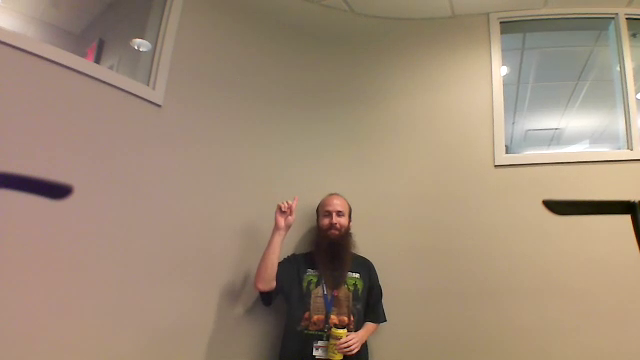up: (270, 189, 304, 232)
